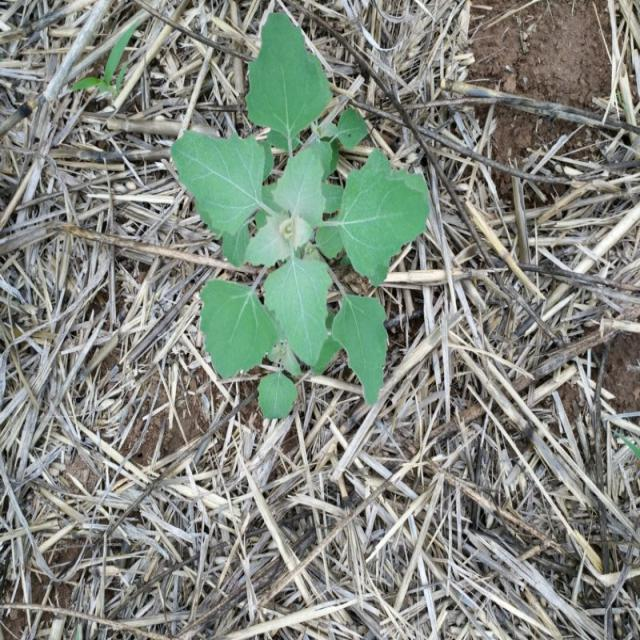goosefoots: (156, 58, 421, 424)
